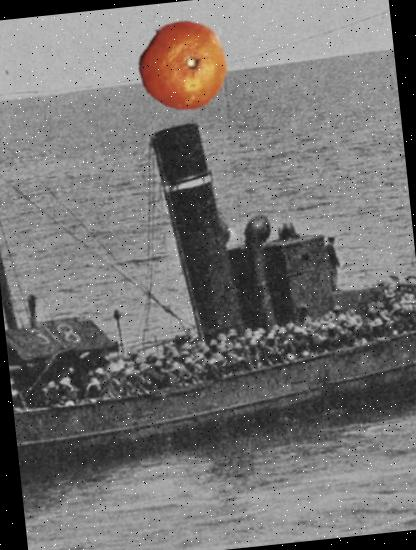Clementine: (132, 13, 235, 116)
